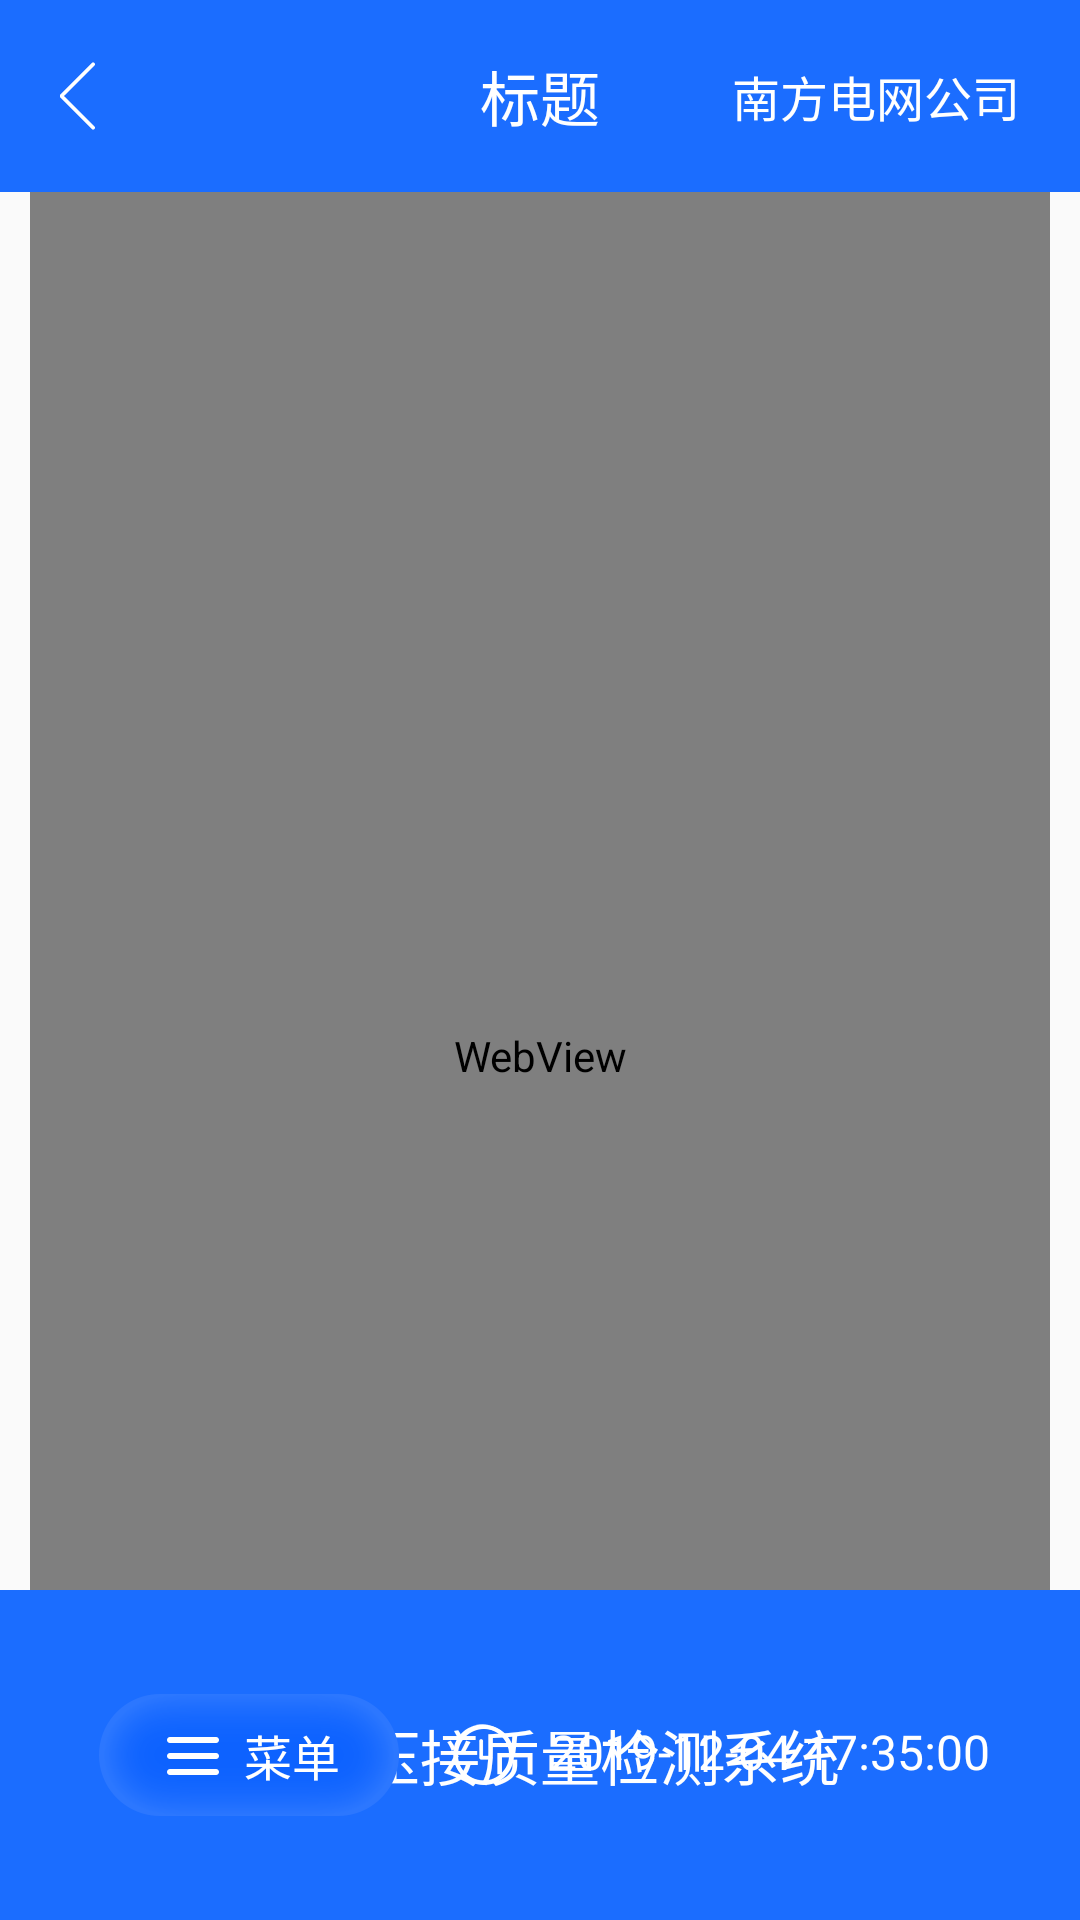

Named icons in this screenshot (1080×1920) and their centers, (x=x, y=y):
back: (x=77, y=96)
